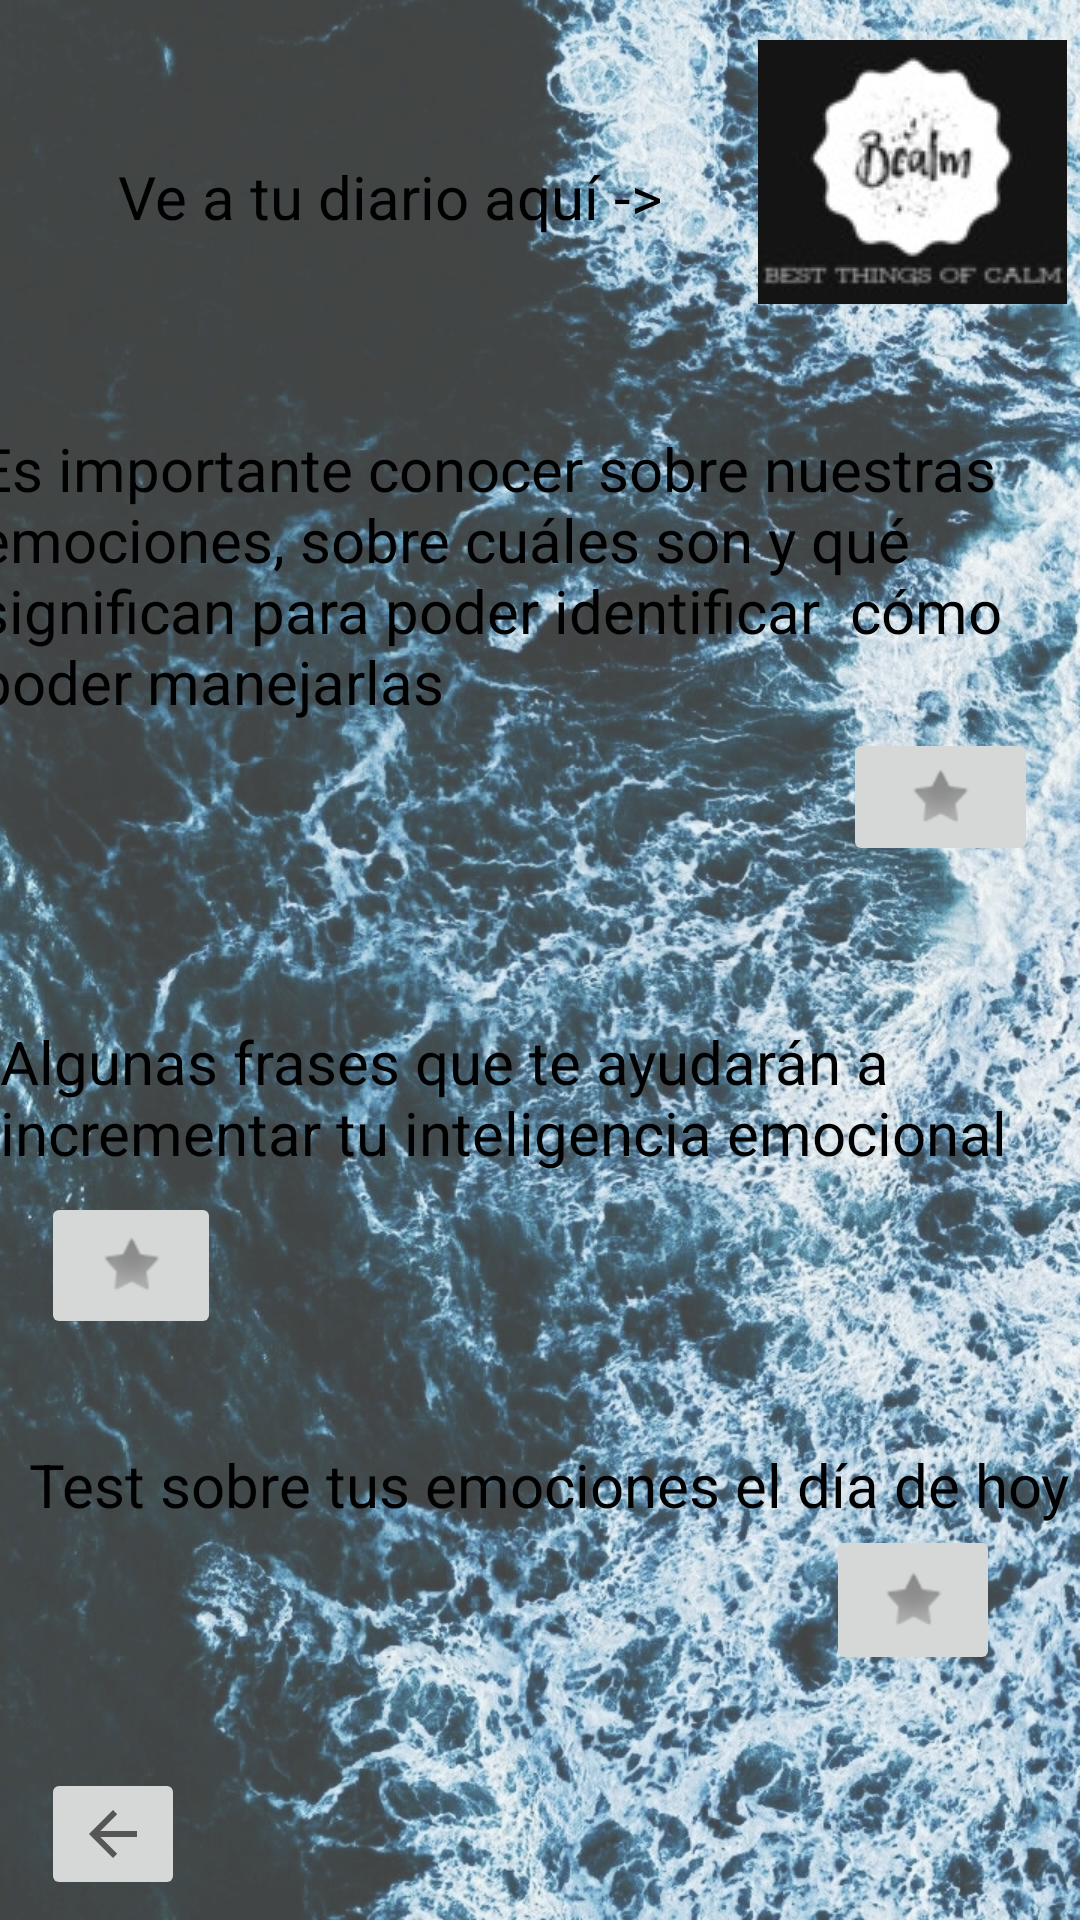

Icons on this 1080 x 1920 Android screen, each with the point to tap as [x,y]:
star off: [940,797], [131,1262], [913,1600]
